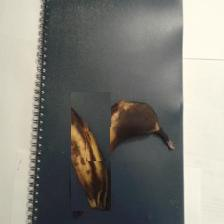Banana Rotten: (86, 92, 180, 162), (72, 92, 112, 211)
